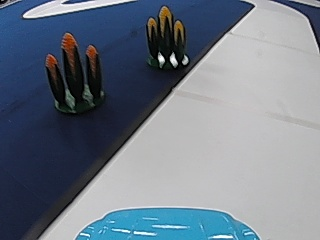corn: (45, 32, 108, 115), (144, 2, 191, 69)
